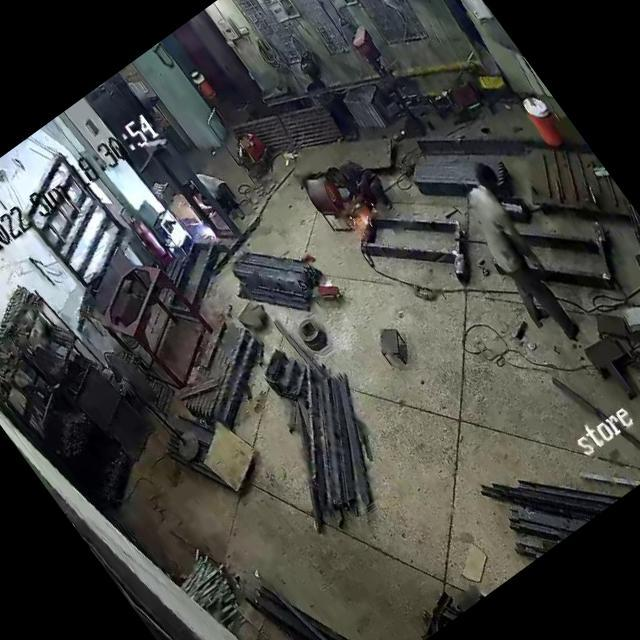person: (446, 158, 598, 342)
